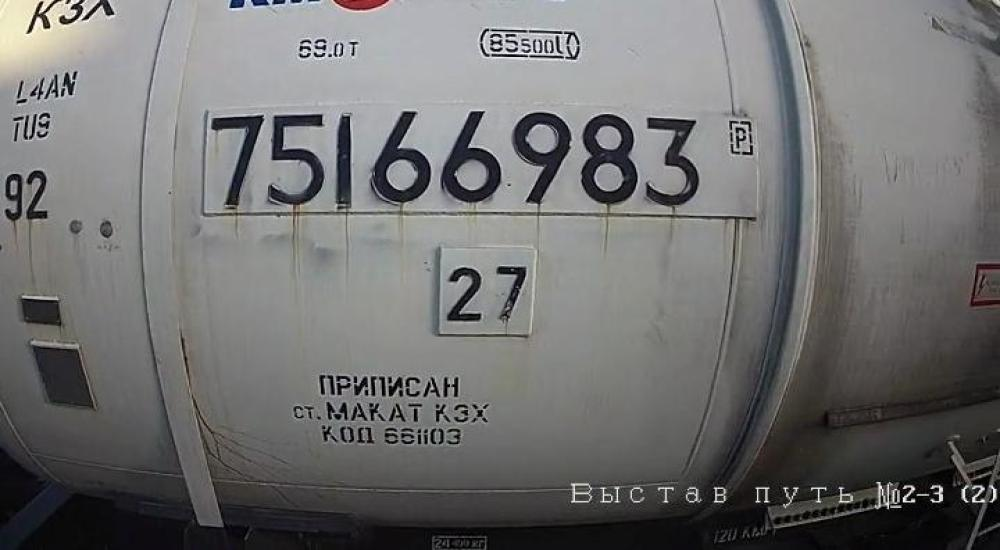Wagon-number: (205, 105, 706, 215)
